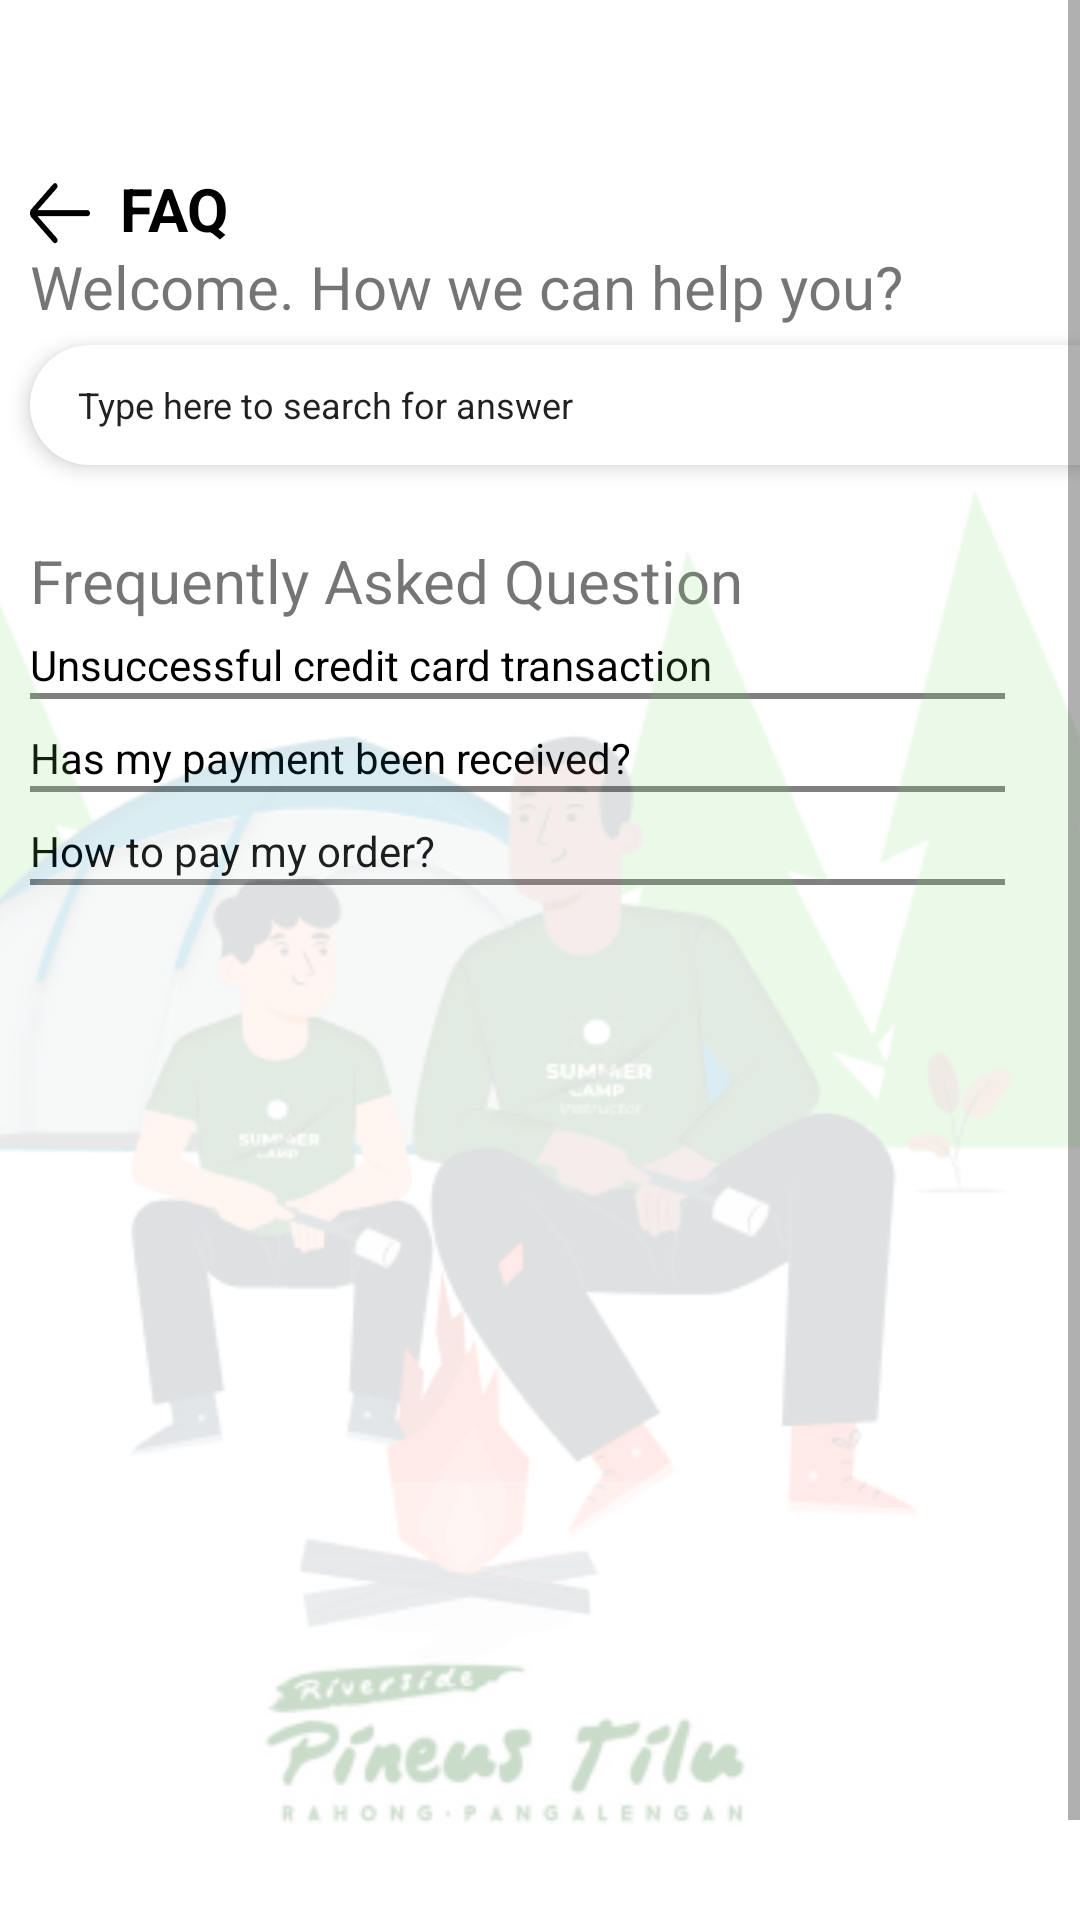

Screen size 1080w x 1920h. Icon name, then its center in pixels as point (x, y):
panah: point (60, 213)
